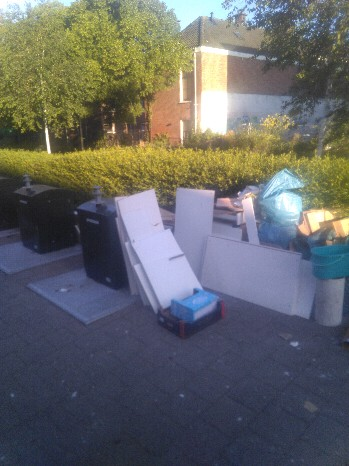Container: (18, 182, 77, 243), (84, 194, 121, 291)
Rest: (207, 236, 343, 316), (228, 179, 349, 241), (128, 191, 181, 307), (179, 183, 227, 270), (159, 291, 224, 353)
